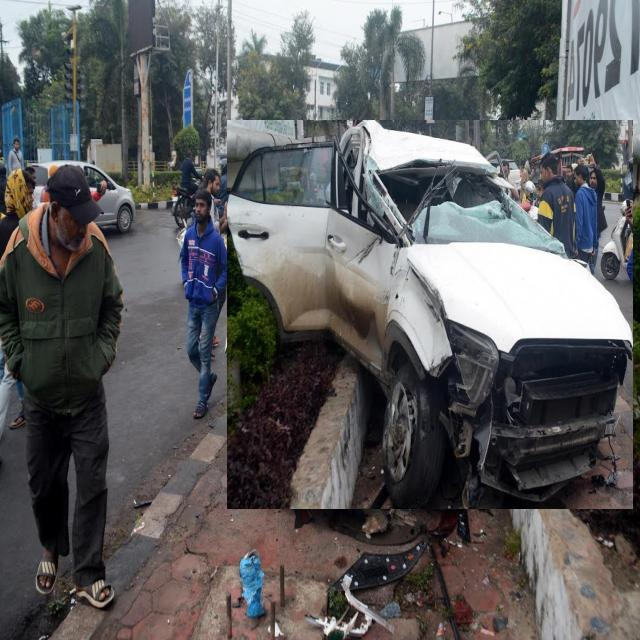accident: (227, 120, 632, 509)
